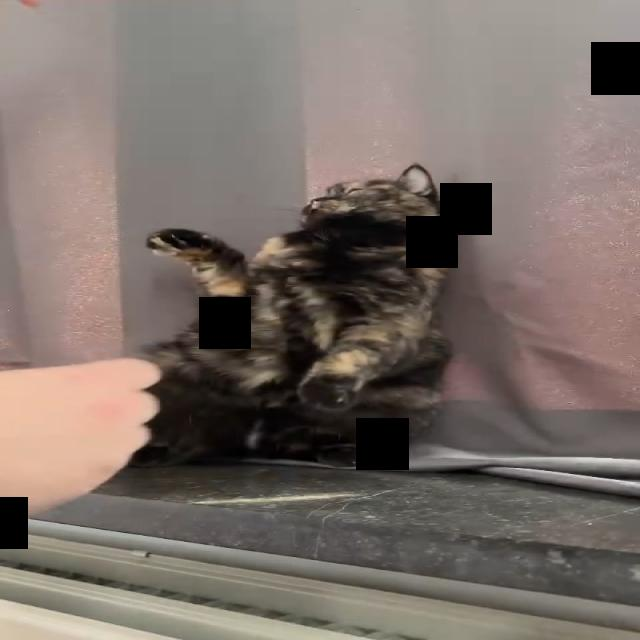authorized: (128, 162, 453, 468)
